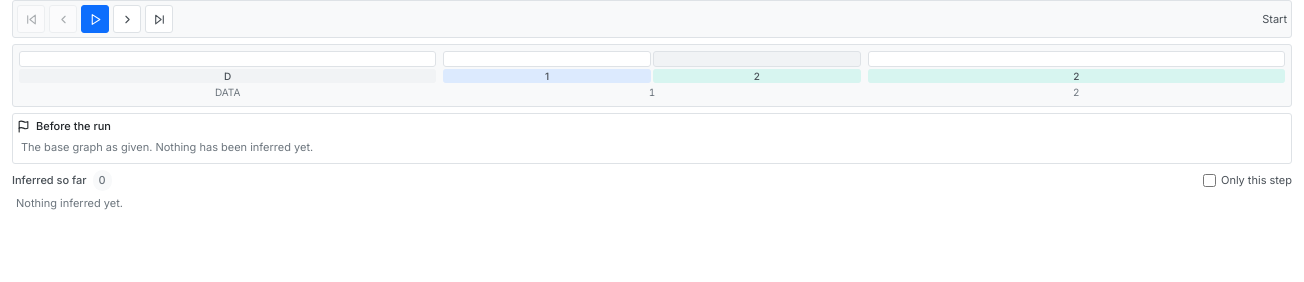
RuleSetExecutionReplay › seeks to a step when its tick is clicked
Click the 3rd button with class "step-cell" at [757, 59], box [653,51,861,67]
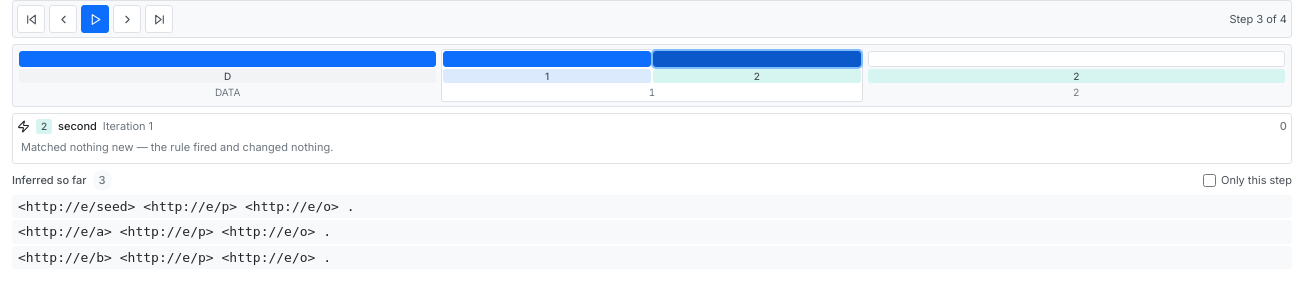
Expected: the text with test id "replay-position" reads "Step 3 of 4", [1230,12,1287,26]
Expected: the element with test id "replay-current" shows "second", [58,119,97,133]
